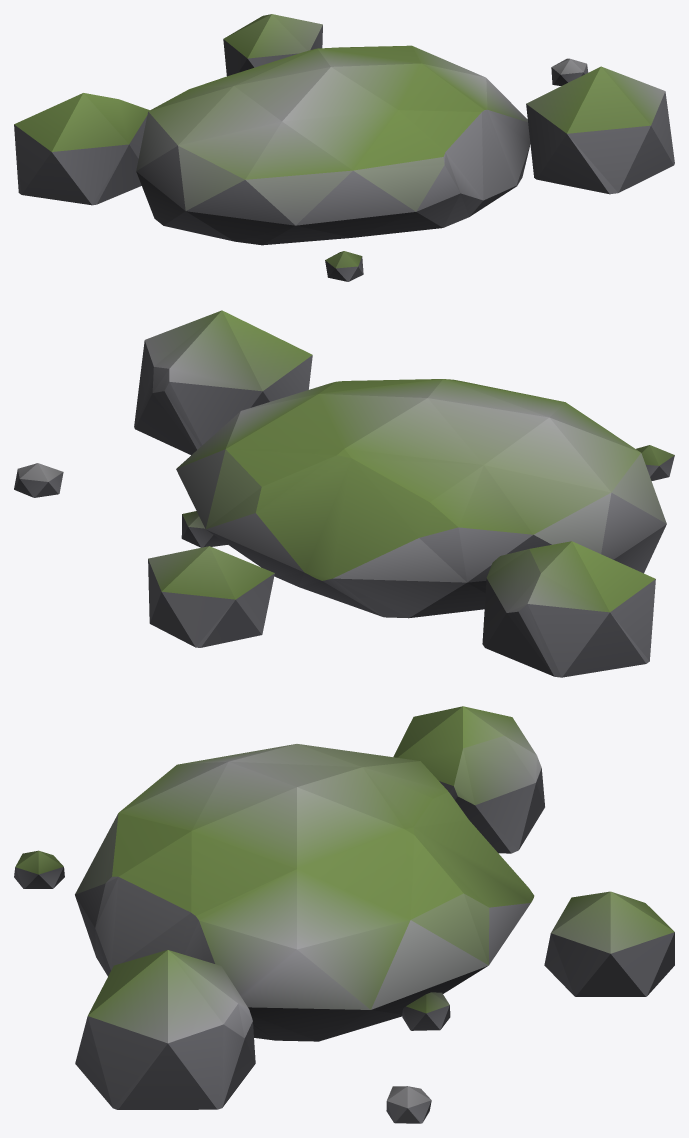
Rendered from rock-rubble.glb.
3 renders of one model, top to bottom at view 1: azimuth 30°, elevation 25°; view 2: azimuth 150°, elevation 25°; view 3: azimuth 270°, elevation 25°, orthographic. The views are drawn at different scales.
Parts seen in each view (by area): view 1: 0_rubble; view 2: 0_rubble; view 3: 0_rubble.
Part boxes in pixels (x1=…): 0_rubble: x1=14, y1=14, x2=674, y2=281; 0_rubble: x1=14, y1=310, x2=674, y2=677; 0_rubble: x1=14, y1=706, x2=674, y2=1123.
Bounding box in the file's own units: 2.23 × 0.4418 × 1.79.
